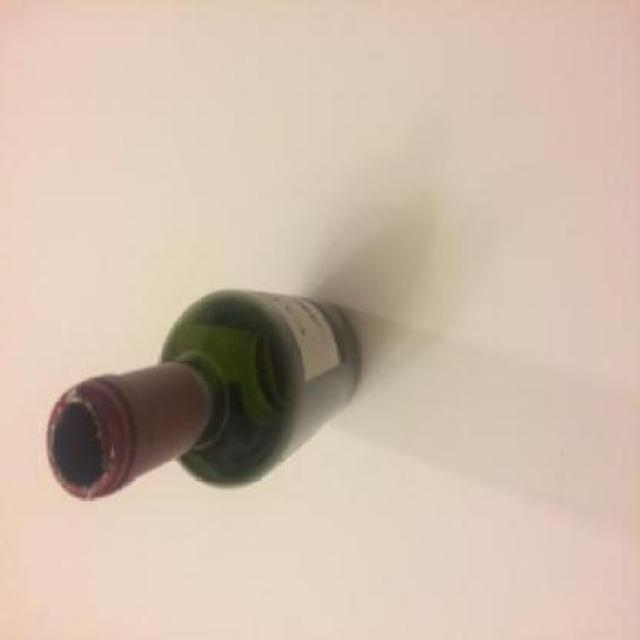kaca: (48, 288, 358, 500)
